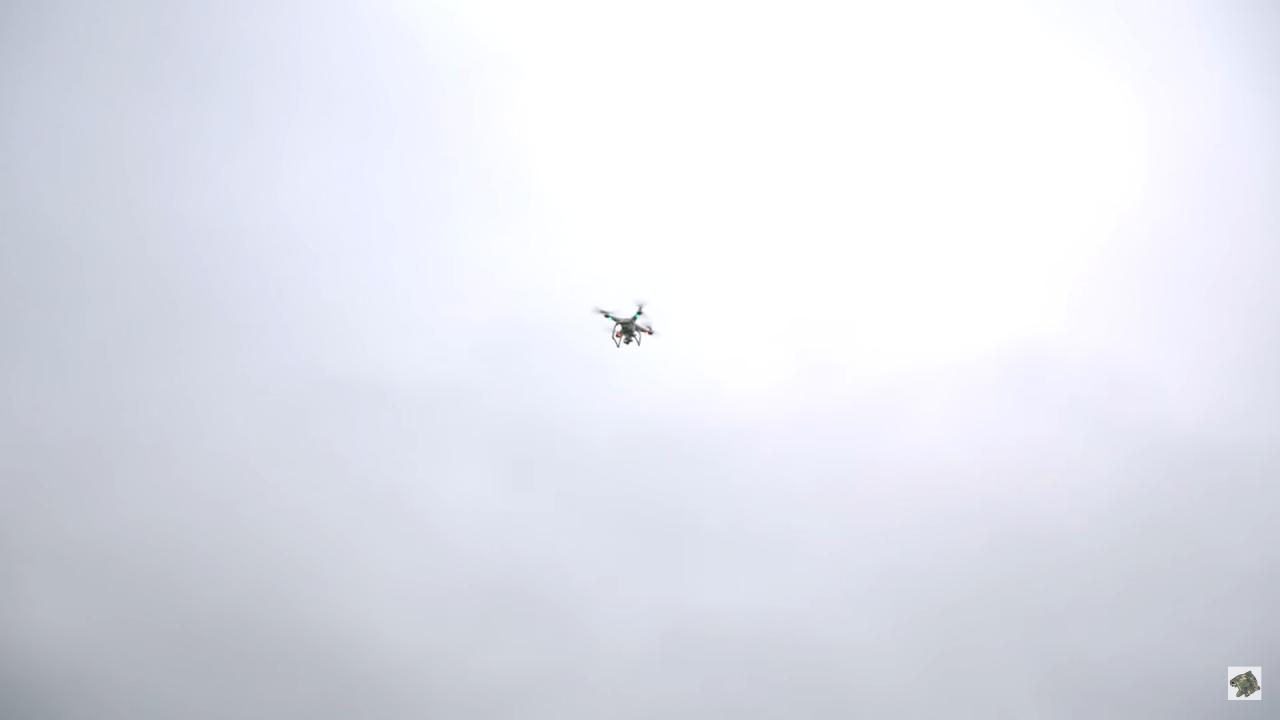Drone: (583, 286, 673, 359)
